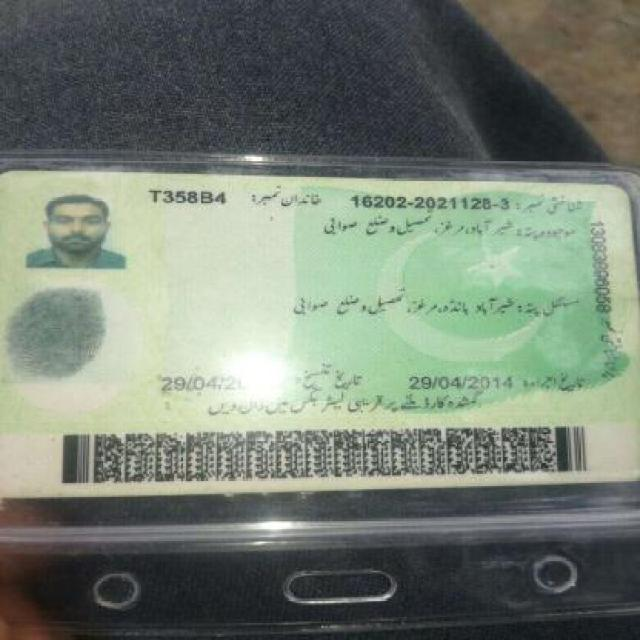Back: (5, 163, 628, 488)
